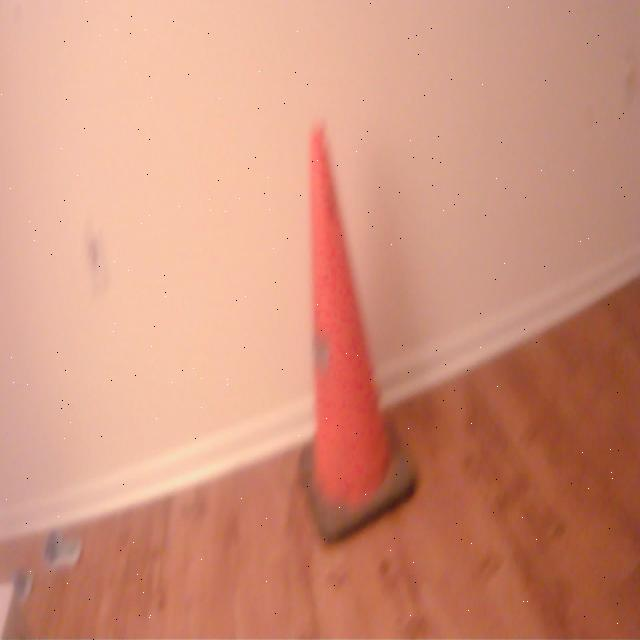traffic cone: (296, 116, 422, 552)
